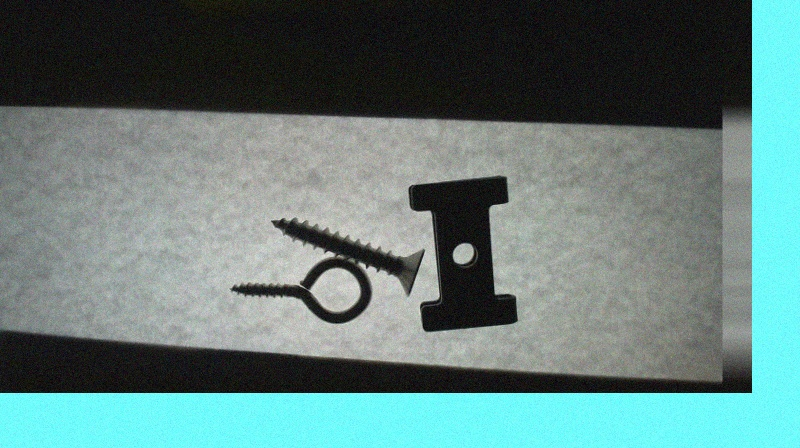O001: (227, 253, 373, 324)
O002: (405, 173, 520, 332)
S001: (269, 215, 427, 295)
